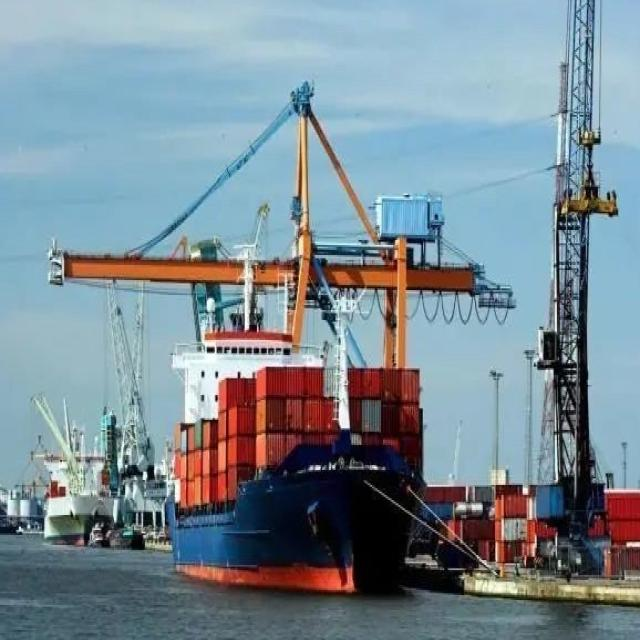cargoship: (168, 290, 424, 597)
